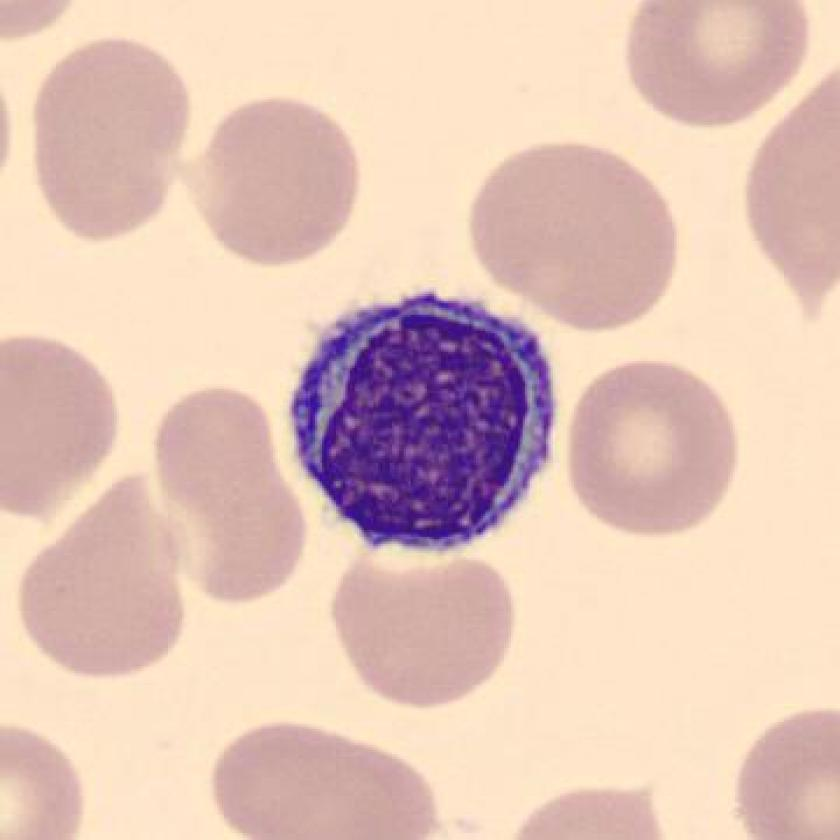lymphocyte: (272, 274, 582, 577)
